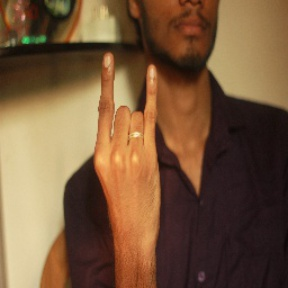V: (88, 49, 168, 225)
